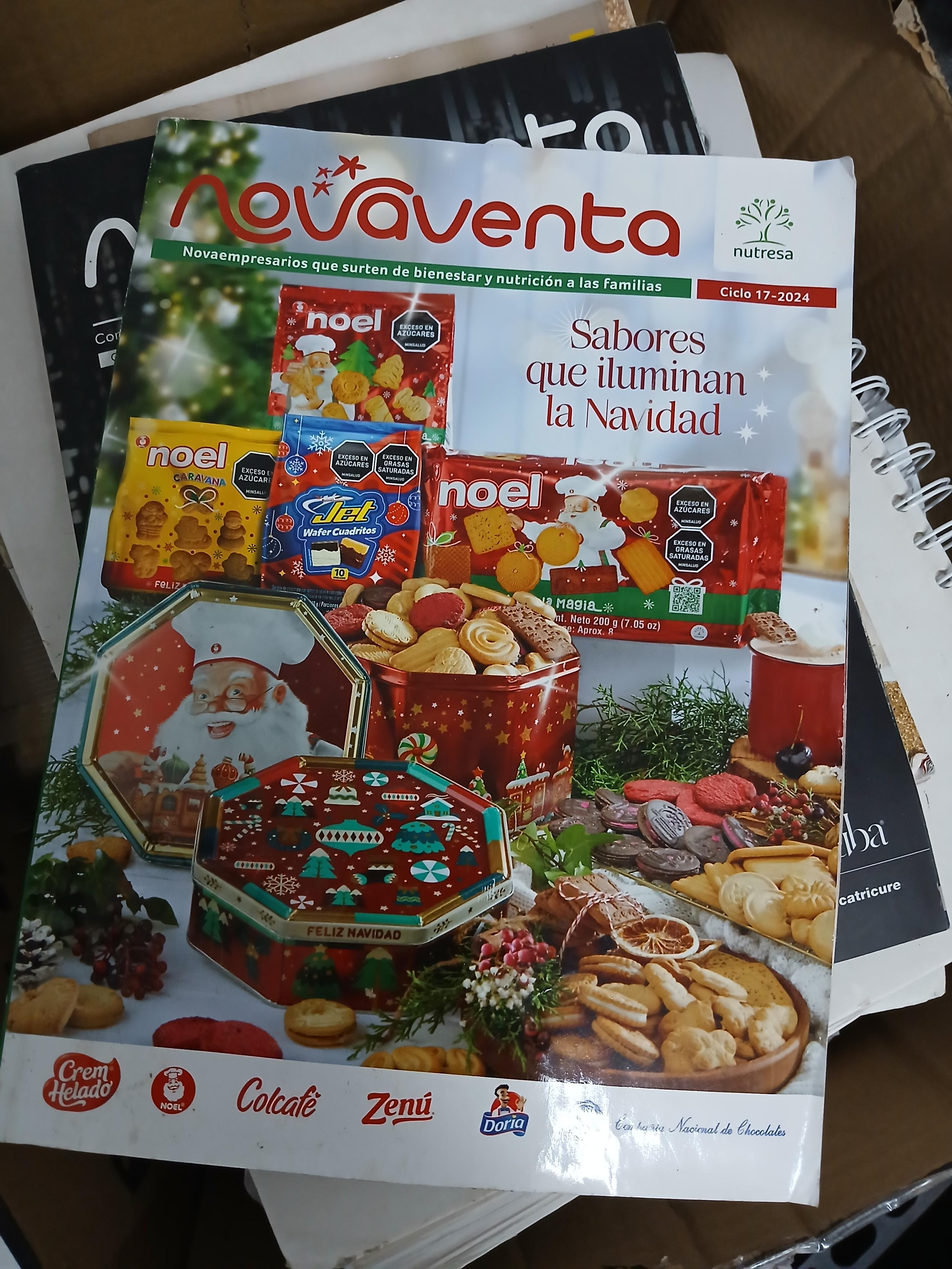Papel: (0, 120, 864, 1209)
